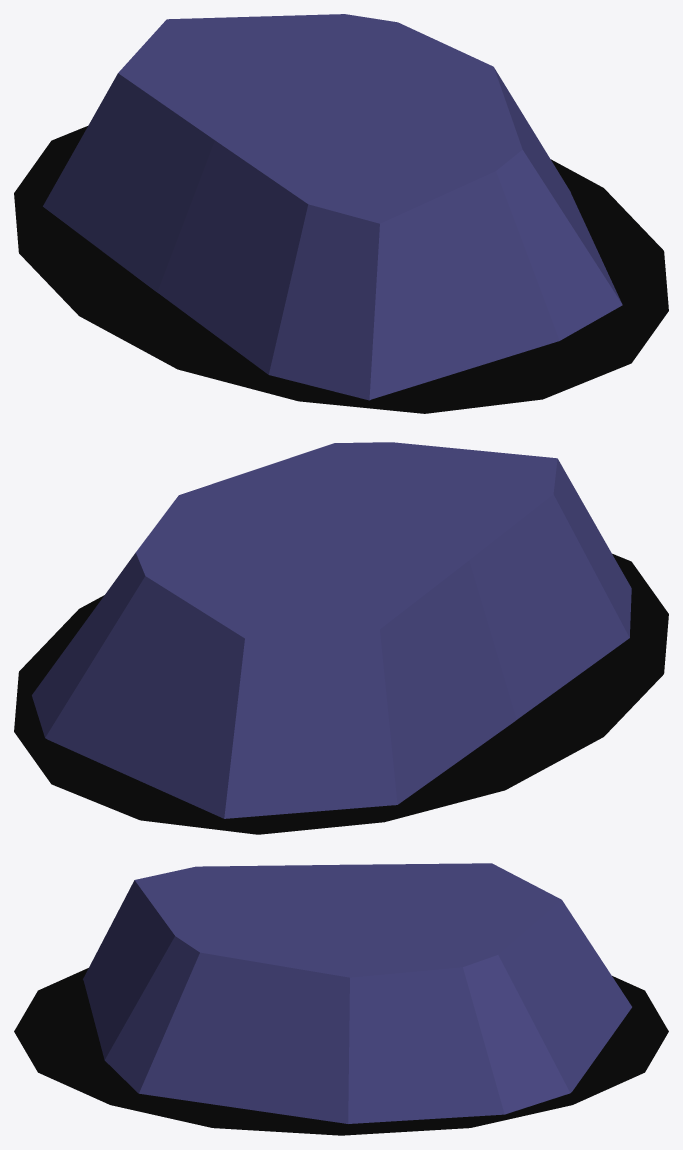
The model's file is Kamien4.fbx.
3 views of the same model, one above another, from view 1: azimuth 30°, elevation 25°; view 2: azimuth 150°, elevation 25°; view 3: azimuth 270°, elevation 25° (orthographic). The views are drawn at different scales.
Parts seen in each view (by area): view 1: Plane.010; view 2: Plane.010; view 3: Plane.010.
Part boxes in pixels (x1=…): Plane.010: x1=14, y1=14, x2=668, y2=413; Plane.010: x1=14, y1=442, x2=668, y2=834; Plane.010: x1=14, y1=863, x2=668, y2=1135.
Bounding box in the file's own units: 242 × 65.77 × 322.
